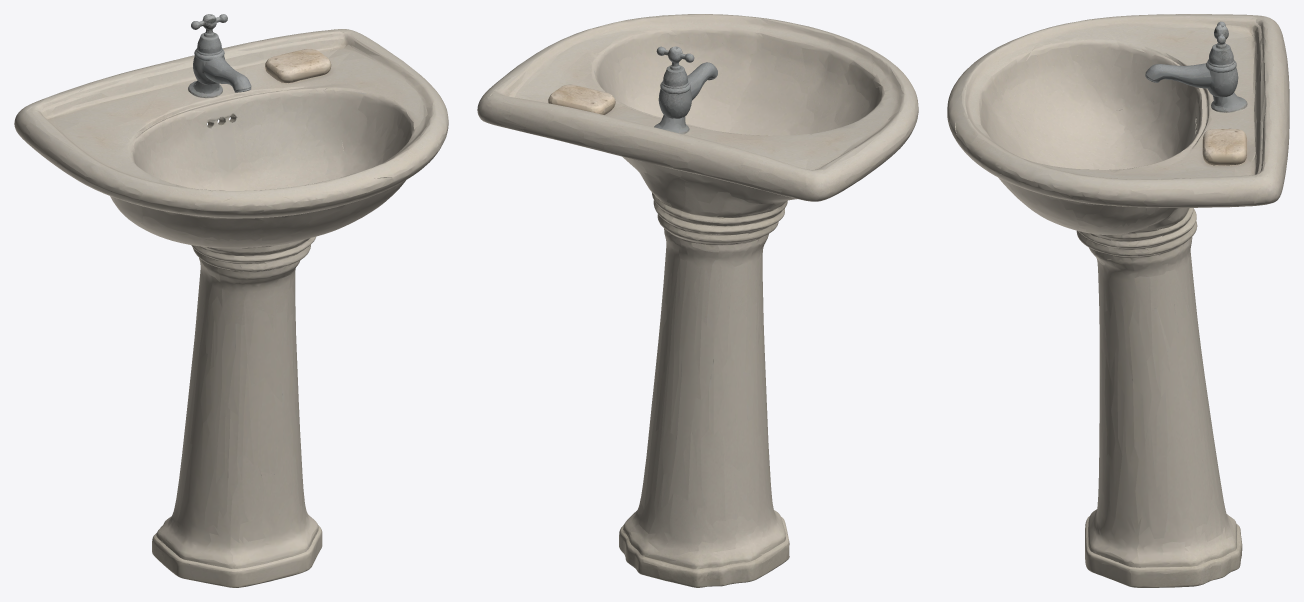
Rendered from lavandino.glb.
3 views of the same model, side by side, from view 1: azimuth 30°, elevation 25°; view 2: azimuth 150°, elevation 25°; view 3: azimuth 270°, elevation 25° (orthographic). The views are drawn at different scales.
Visible parts, largest first — view 1: Mesh_0; view 2: Mesh_0; view 3: Mesh_0.
Part boxes in pixels (bbox=[...]): Mesh_0: bbox=[14, 14, 448, 587]; Mesh_0: bbox=[477, 14, 918, 587]; Mesh_0: bbox=[947, 14, 1289, 587].
Size of the model in its own units: 1.37 by 1.9 by 1.11.
1 material, 1 textured.
